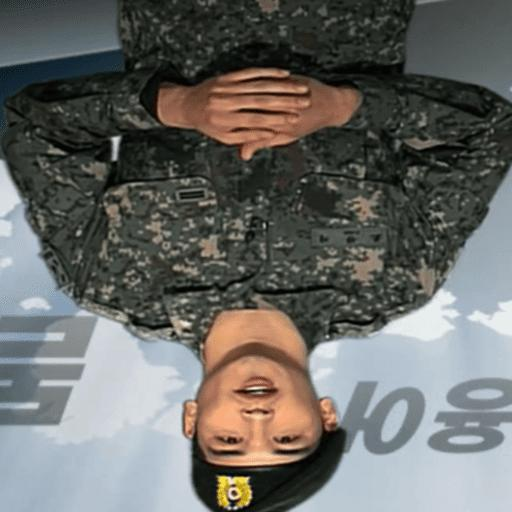korea army: (19, 0, 512, 506)
